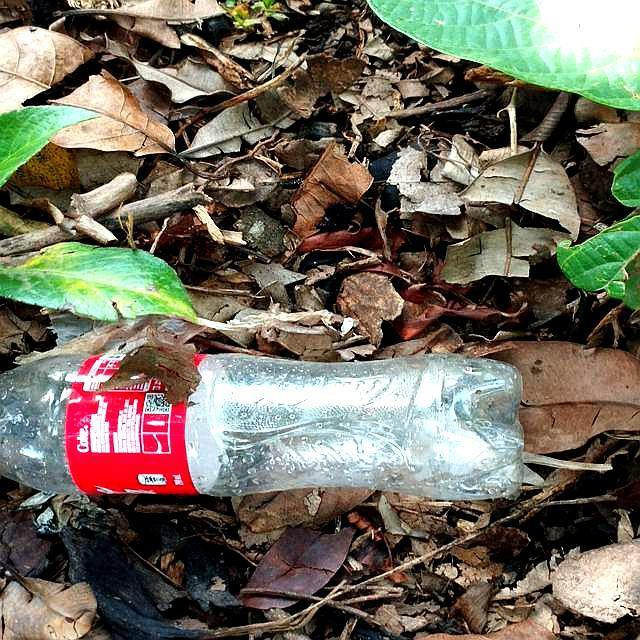Non-biodegradable: (2, 340, 527, 505)
